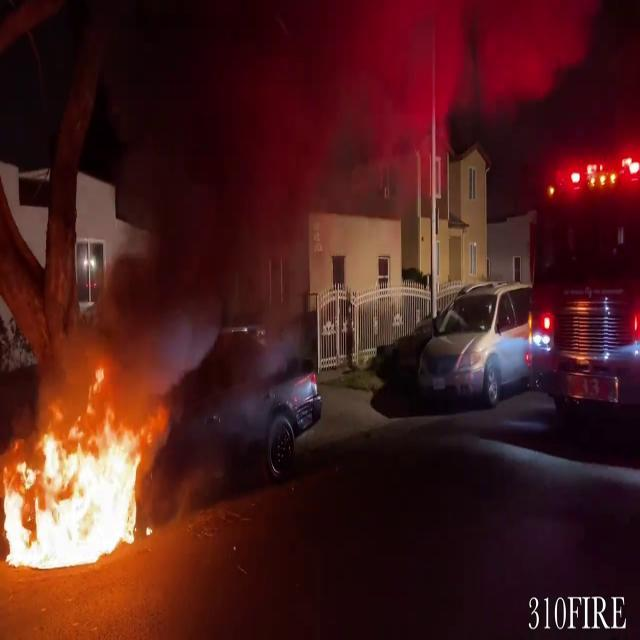Fire: (0, 380, 156, 572)
Smoke: (105, 0, 479, 374)
